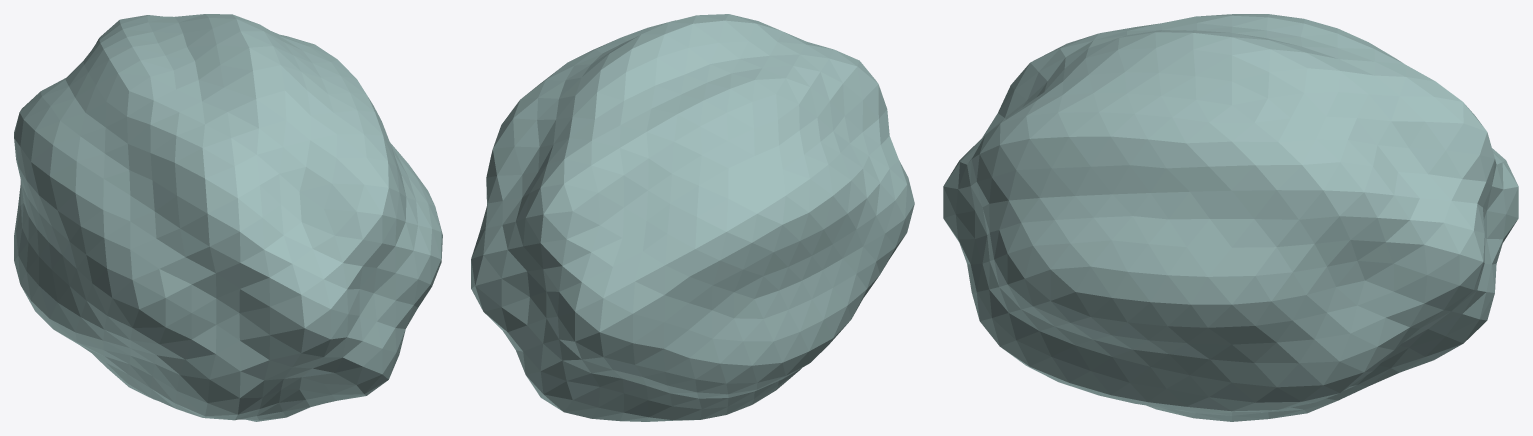
Rendered from Bana_Crystal_Lotus_Bud.glb.
3 renders of one model, left to right at view 1: azimuth 30°, elevation 25°; view 2: azimuth 150°, elevation 25°; view 3: azimuth 270°, elevation 25°, orthographic. The views are drawn at different scales.
Visible parts, largest first — view 1: world; view 2: world; view 3: world.
Part boxes in pixels (x1,y1,x2,y2): world: (14,14,442,421); world: (471,14,914,421); world: (943,14,1518,421).
Bounding box in the file's own units: 1.63 × 1.67 × 2.3.
